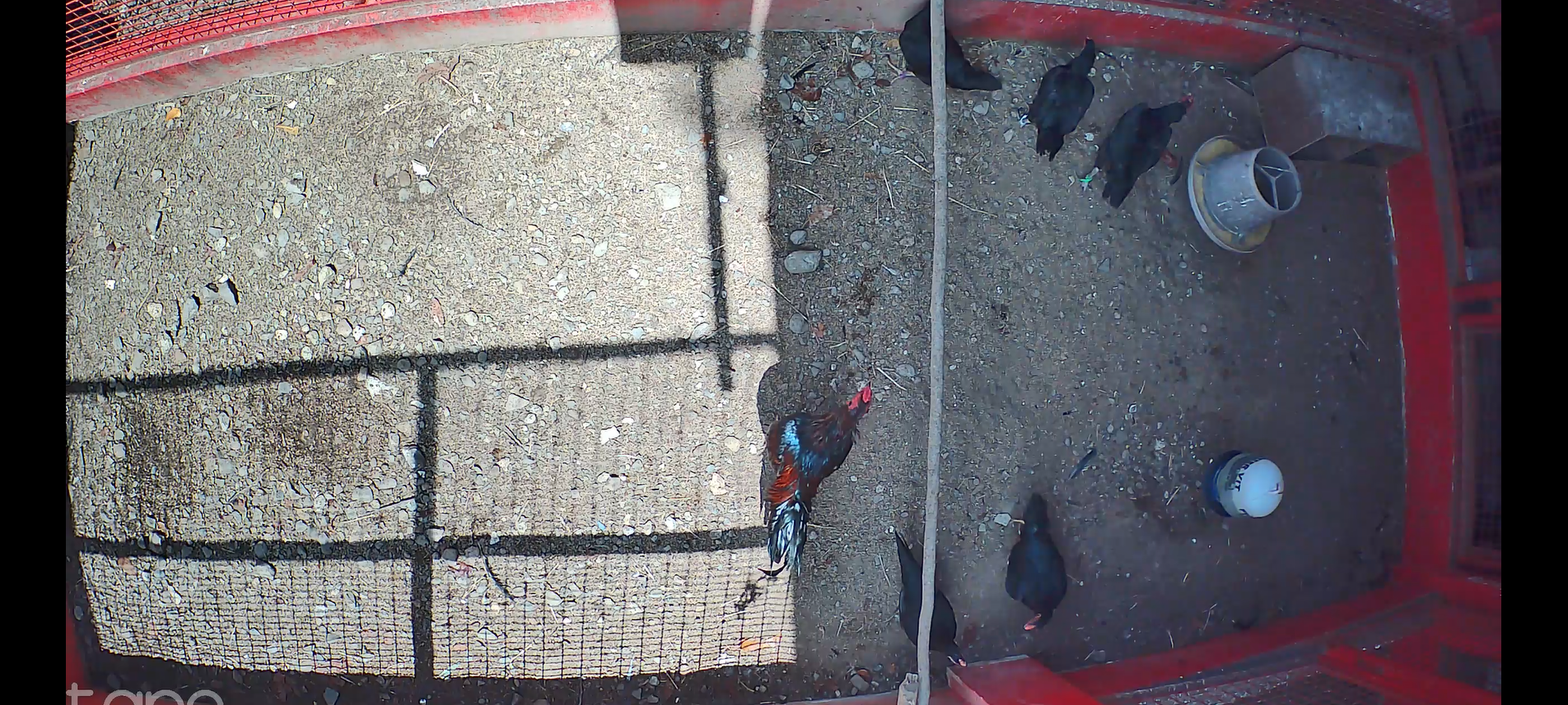Chicken: (1079, 91, 1194, 212), (890, 528, 976, 680), (885, 3, 1008, 101), (1000, 491, 1077, 639), (1017, 32, 1100, 162)
Drinker: (1204, 449, 1288, 519)
Feeder: (1189, 134, 1302, 254)
Rooster: (760, 373, 876, 585)
